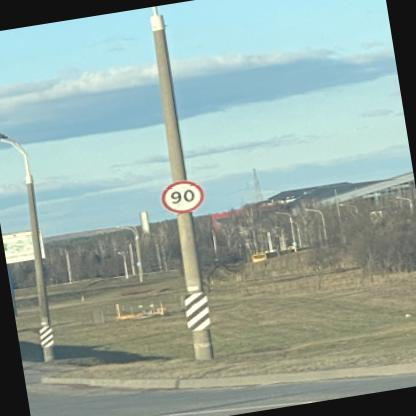speedlimit: (155, 177, 204, 216)
